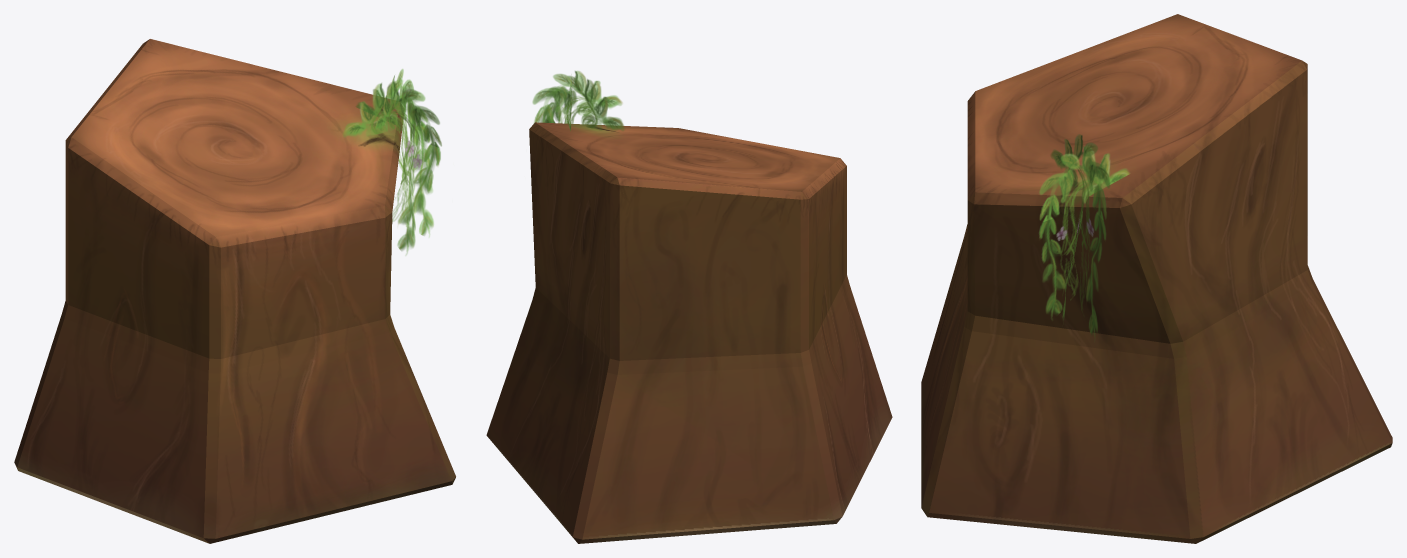
The model's file is wood.glb.
3 renders of one model, left to right at view 1: azimuth 30°, elevation 25°; view 2: azimuth 150°, elevation 25°; view 3: azimuth 270°, elevation 25°, orthographic. The views are drawn at different scales.
Visible parts, largest first — view 1: Wood, L; view 2: Wood, L; view 3: Wood, L.
Part boxes in pixels (<box>): Wood: <box>14,39,455,543</box>; L: <box>342,69,441,254</box>; Wood: <box>486,122,892,543</box>; L: <box>532,71,624,131</box>; Wood: <box>921,14,1392,543</box>; L: <box>1039,134,1130,336</box>.
Bounding box in the file's own units: 0.8948 × 0.9058 × 0.8689.
2 materials, 2 textured.
